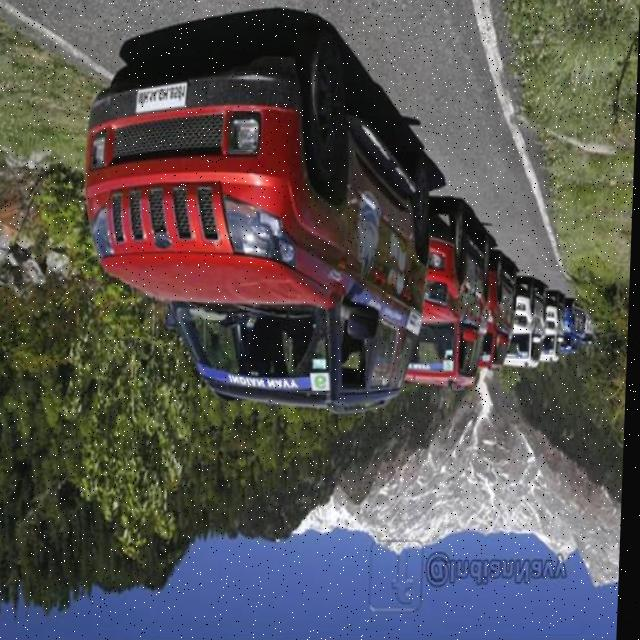plate: (134, 82, 189, 115)
